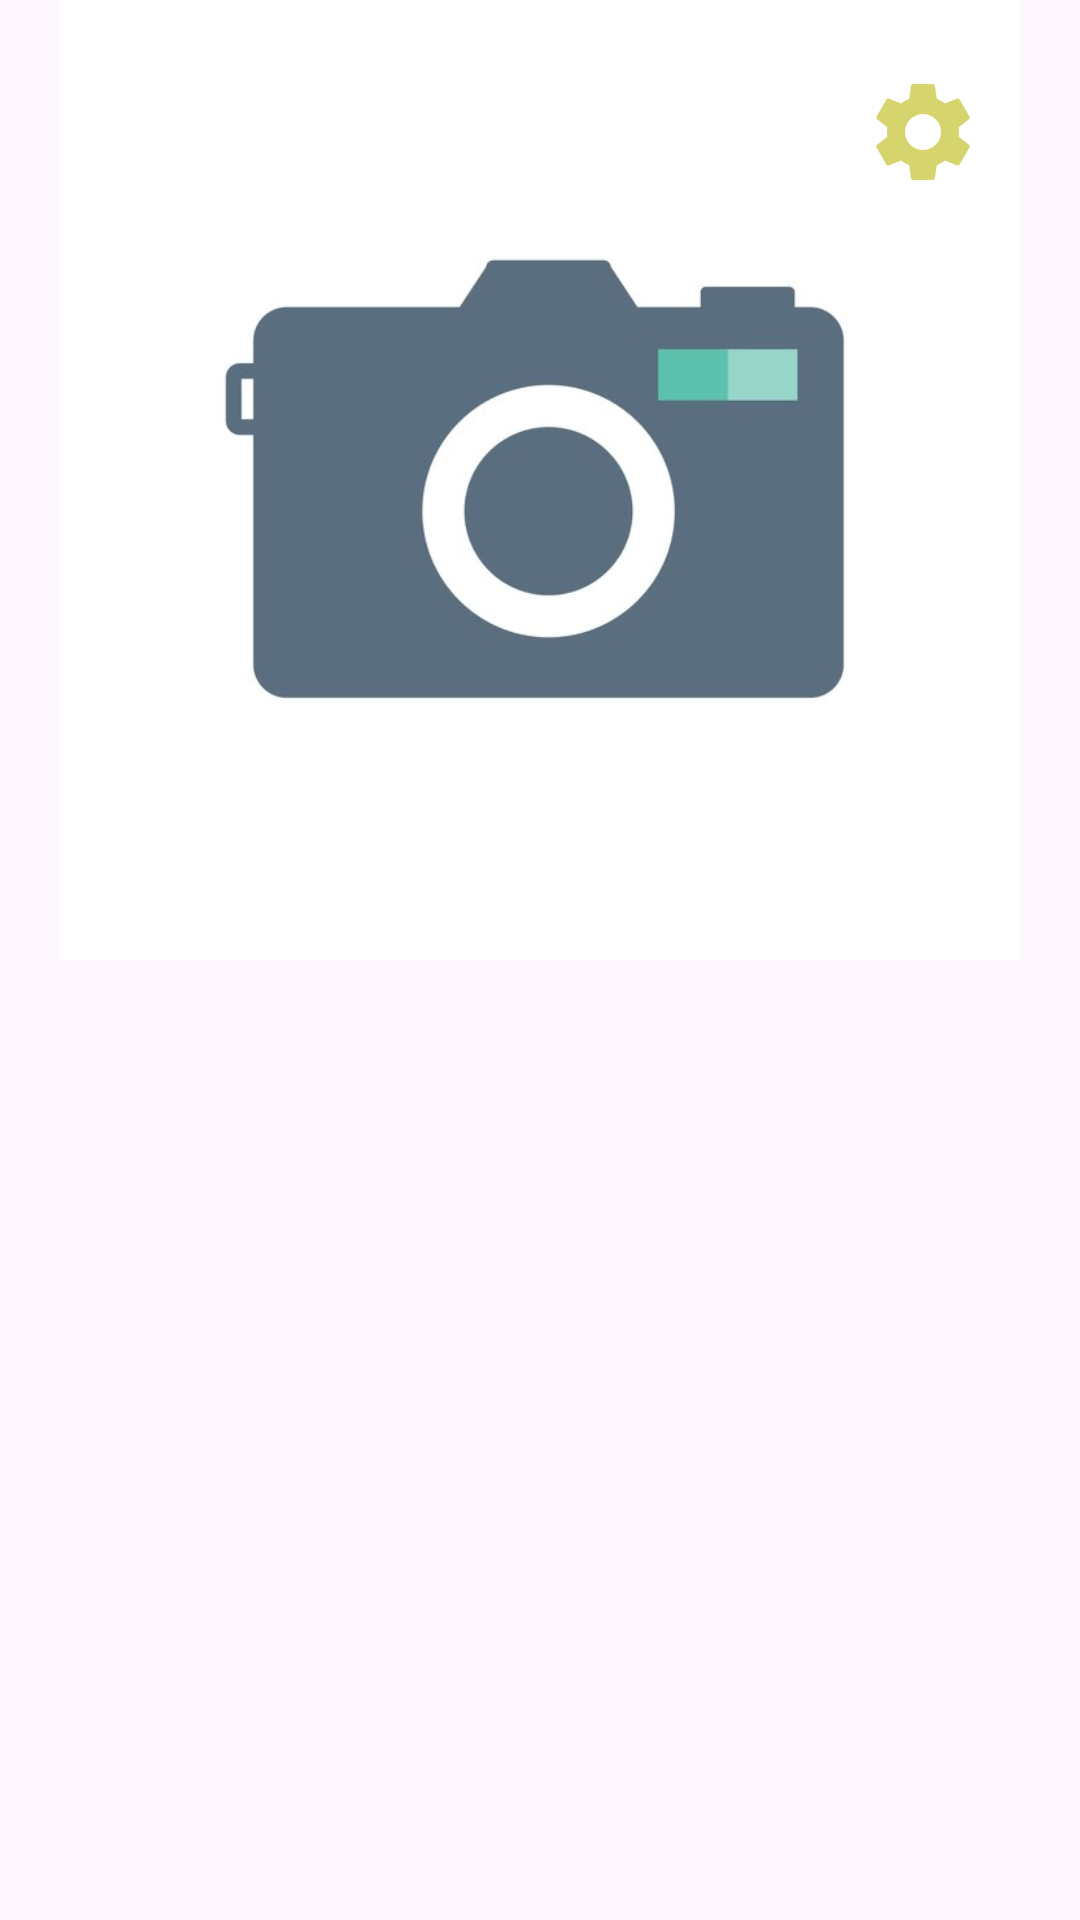

Screen size 1080px x 1920px. Icon name, then its box in pixels as {"x1": x1, "y1": y1, "x2": x2, "y2": y2}:
settings: {"x1": 876, "y1": 84, "x2": 970, "y2": 180}
